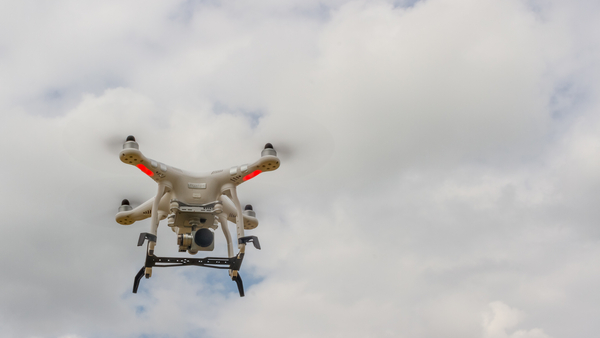drone: (105, 133, 282, 299)
